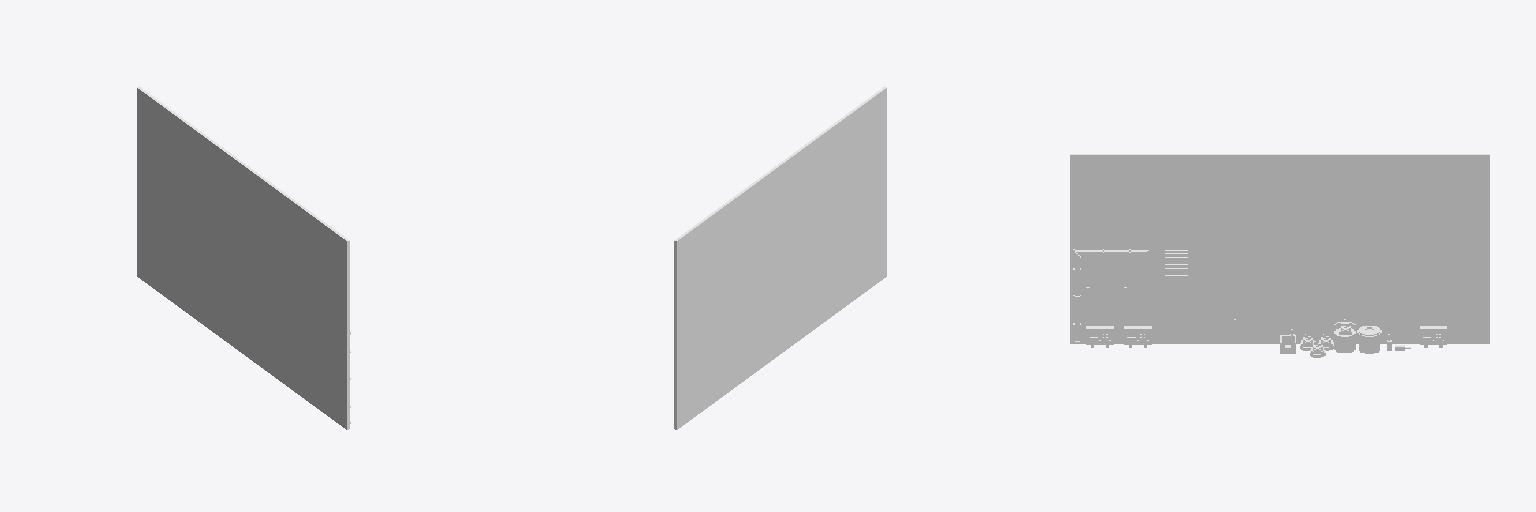
The model's file is stage1_wall_left.obj.
3 views of the same model, side by side, from view 1: azimuth 30°, elevation 25°; view 2: azimuth 150°, elevation 25°; view 3: azimuth 270°, elevation 25° (orthographic).
Visible parts, largest first — view 1: object 1; view 2: object 1; view 3: object 1.
Part boxes in pixels (x1,y1,x2,y2): object 1: (137, 87, 350, 429); object 1: (674, 87, 886, 429); object 1: (1070, 154, 1489, 357).
Size of the model in its own units: 2 by 12.8 by 25.6.